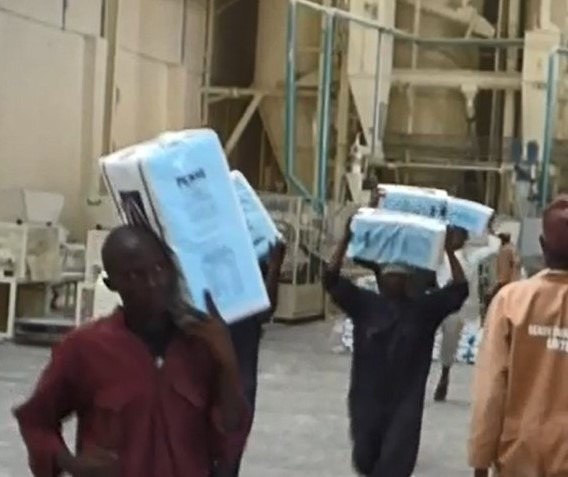wheat_flour_blue_label: (93, 126, 274, 340), (351, 203, 453, 270)
